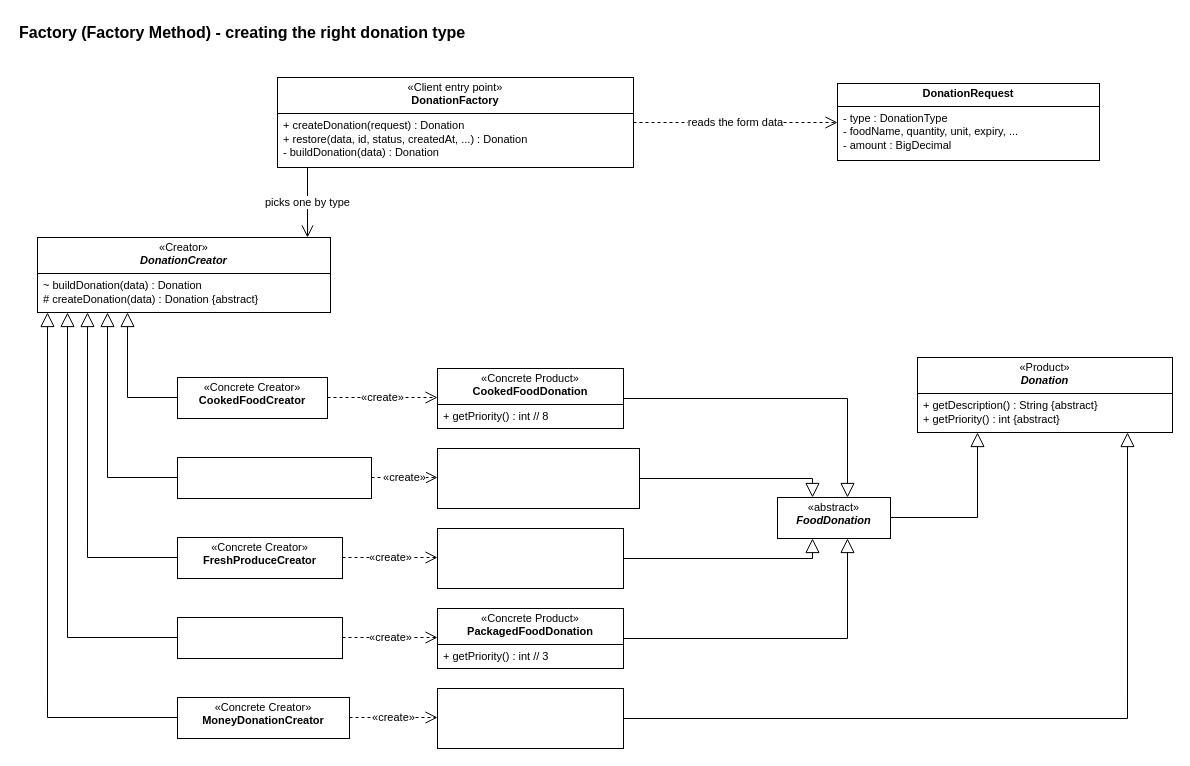
This 1190x766 diagram has some shape labels left out. The centre of each missing label's shape, as x and y in pixels:
"«Concrete Creator» PackagedFoodCreator" belongs at point (259, 637).
"«Concrete Creator» RefrigeratedFoodCreator" belongs at point (274, 477).
"«Concrete Product» FreshProduceDonation + getPriority() : int // 6" belongs at point (530, 558).
"«Concrete Product» MoneyDonation + getPriority() : int // 1" belongs at point (530, 718).
"«Concrete Product» RefrigeratedFoodDonation + getPriority() : int // 7" belongs at point (538, 478).
